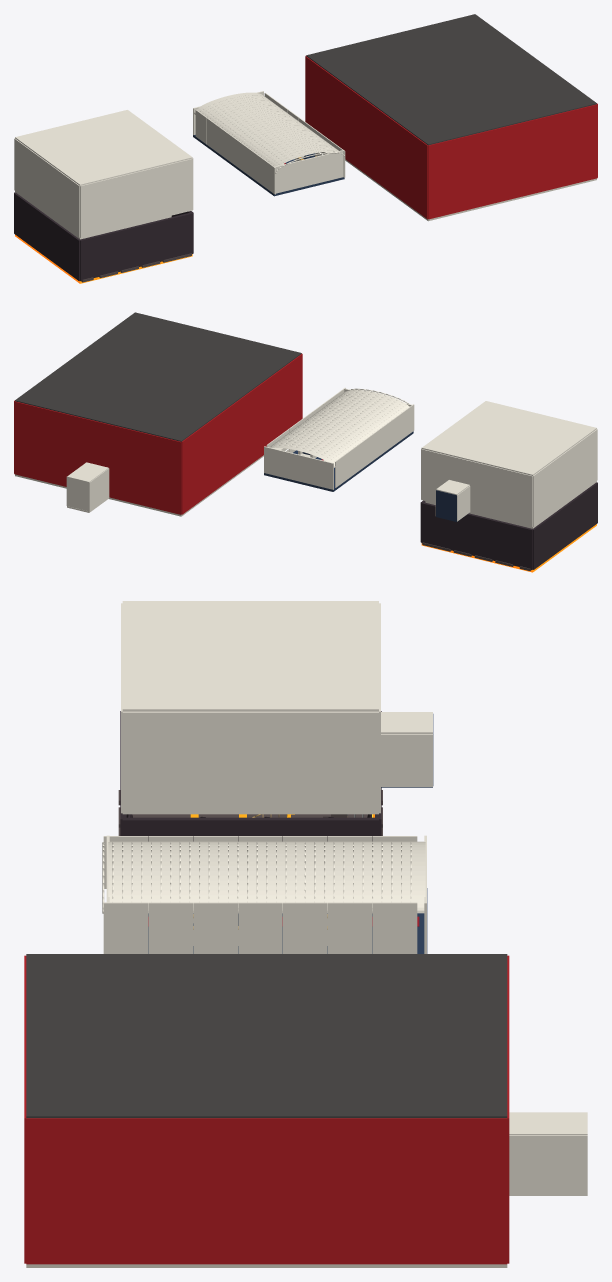
Rendered from journey-room.glb.
3 renders of one model, top to bottom at view 1: azimuth 30°, elevation 25°; view 2: azimuth 150°, elevation 25°; view 3: azimuth 270°, elevation 25°, orthographic. The views are drawn at different scales.
Visible parts, largest first — view 1: Restaurant Longge lacquer red, Restaurant TOMBOY charcoal wool, Chapel Chapel porcelain, HellArchitecture Volcanic basalt, CabinRoof Chapel porcelain, Cabin Chapel porcelain, CabinArches Chapel porcelain, Restaurant Warm ivory marble, Cabin First class midnight leather; view 2: Restaurant Longge lacquer red, Restaurant TOMBOY charcoal wool, Chapel Chapel porcelain, HellArchitecture Volcanic basalt, CabinRoof Chapel porcelain, Cabin Chapel porcelain, Day500Threshold Chapel porcelain, CabinArches Chapel porcelain, JetBridge Chapel porcelain, JetBridge First class midnight leather, Cabin First class midnight leather, Restaurant Warm ivory marble; view 3: Restaurant TOMBOY charcoal wool, Restaurant Longge lacquer red, Chapel Chapel porcelain, CabinRoof Chapel porcelain, Cabin Chapel porcelain, Day500Threshold Chapel porcelain, HellArchitecture Volcanic basalt, JetBridge Chapel porcelain, CabinArches Chapel porcelain, Restaurant Warm ivory marble, HellFloor Cooled lava stone.
Part boxes in pixels (x1,y1,x2,y2): Restaurant Longge lacquer red: [305, 56, 597, 219]; Restaurant TOMBOY charcoal wool: [306, 14, 596, 145]; Chapel Chapel porcelain: [14, 110, 193, 239]; HellArchitecture Volcanic basalt: [14, 192, 193, 281]; CabinRoof Chapel porcelain: [194, 92, 338, 166]; Cabin Chapel porcelain: [193, 91, 345, 194]; CabinArches Chapel porcelain: [200, 95, 344, 173]; Restaurant Warm ivory marble: [345, 159, 596, 221]; Cabin First class midnight leather: [193, 135, 344, 196]; Restaurant Longge lacquer red: [14, 353, 302, 514]; Restaurant TOMBOY charcoal wool: [15, 312, 301, 441]; Chapel Chapel porcelain: [421, 401, 597, 528]; HellArchitecture Volcanic basalt: [420, 482, 597, 569]; CabinRoof Chapel porcelain: [269, 389, 409, 467]; Cabin Chapel porcelain: [264, 387, 414, 489]; Day500Threshold Chapel porcelain: [66, 462, 109, 512]; CabinArches Chapel porcelain: [271, 388, 409, 462]; JetBridge Chapel porcelain: [435, 480, 470, 521]; JetBridge First class midnight leather: [436, 490, 465, 521]; Cabin First class midnight leather: [264, 431, 413, 491]; Restaurant Warm ivory marble: [15, 455, 263, 516]; Restaurant TOMBOY charcoal wool: [26, 954, 507, 1118]; Restaurant Longge lacquer red: [24, 955, 509, 1264]; Chapel Chapel porcelain: [121, 601, 380, 814]; CabinRoof Chapel porcelain: [108, 841, 425, 913]; Cabin Chapel porcelain: [103, 835, 426, 953]; Day500Threshold Chapel porcelain: [509, 1112, 587, 1195]; HellArchitecture Volcanic basalt: [120, 711, 381, 841]; JetBridge Chapel porcelain: [381, 712, 432, 786]; CabinArches Chapel porcelain: [102, 842, 411, 913]; Restaurant Warm ivory marble: [26, 1264, 507, 1267]; HellFloor Cooled lava stone: [118, 790, 382, 835].
Bounding box in the file's own units: 70.28 × 13.46 × 35.12.
